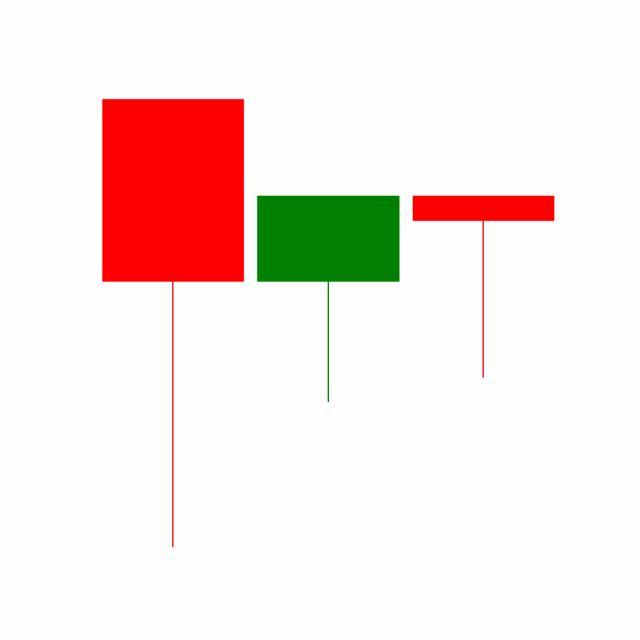Dragonfly Doji: (406, 195, 562, 381)
